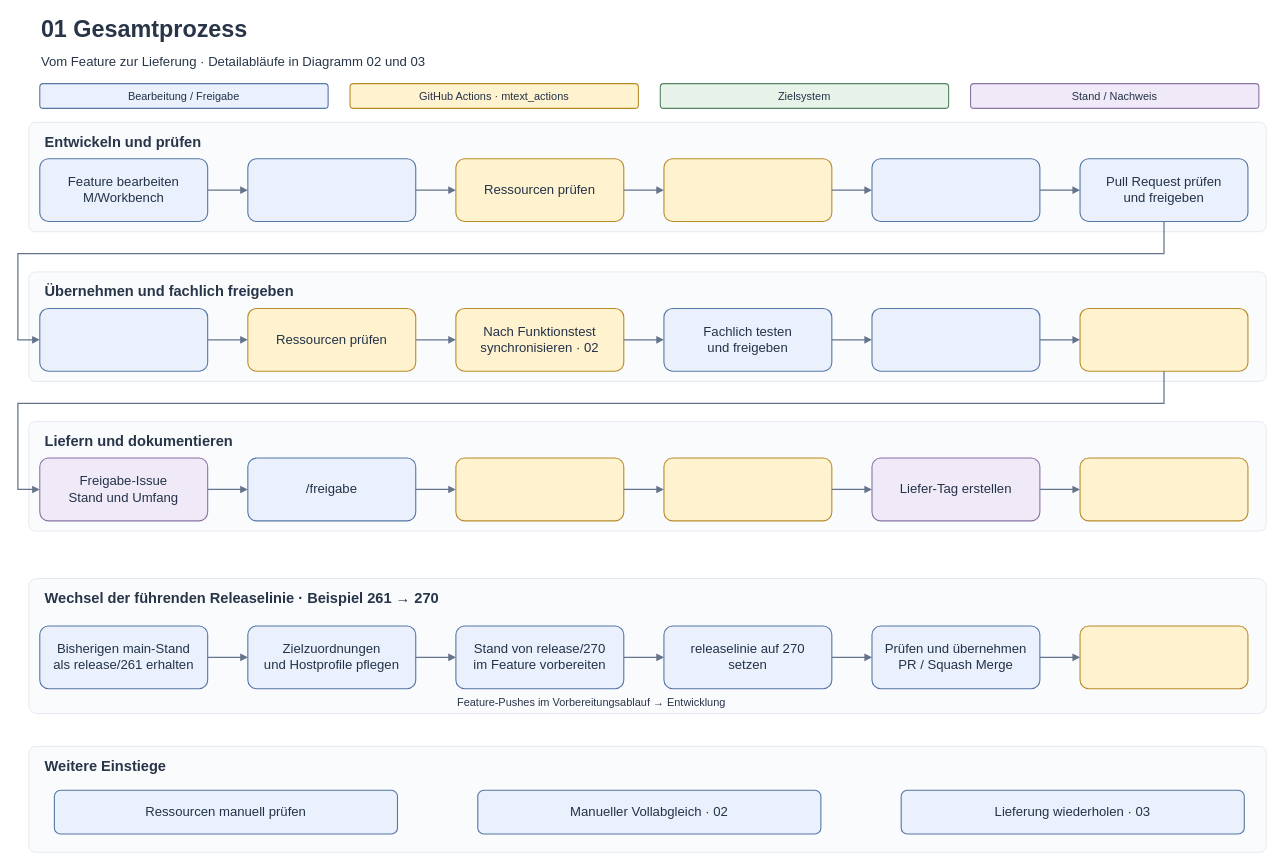
Image size: 1280x865. Some labels were removed from this diagram. The centre of each missing label's shape, as x and y in pixels:
An Mainframe übergeben FTPS / JES: the point at 747,489
Archive und JCL bauen · 03: the point at 539,489
Commit und Push feature/nnn/…: the point at 331,190
Ergebnis dokumentieren Issue schließen: the point at 1163,489
Funktionstest synchronisieren · 02: the point at 1163,657
In Entwicklung testen: the point at 955,190
Lieferstand zusammenstellen: the point at 955,339
Lieferung vorbereiten Prüfung / Umfang · 03: the point at 1163,339
Nach Entwicklung synchronisieren · 02: the point at 747,190
Squash Merge main / release/nnn: the point at 123,339
